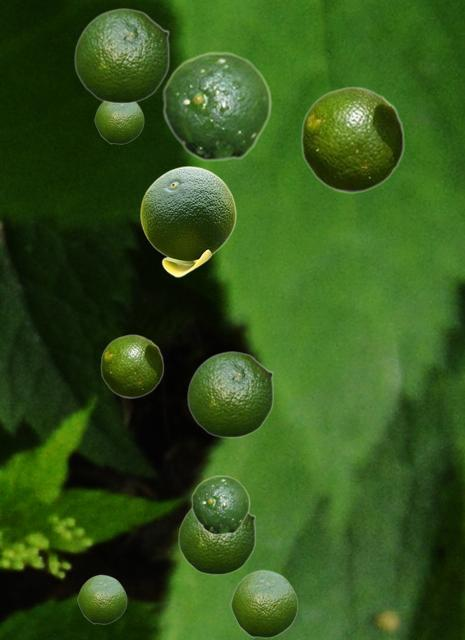calamansi: (162, 51, 271, 161), (300, 86, 404, 192), (140, 166, 235, 276), (74, 8, 169, 103), (187, 351, 273, 437), (178, 508, 255, 574), (230, 569, 297, 637), (100, 334, 163, 397), (191, 475, 249, 534), (77, 574, 126, 623), (94, 102, 143, 143)
